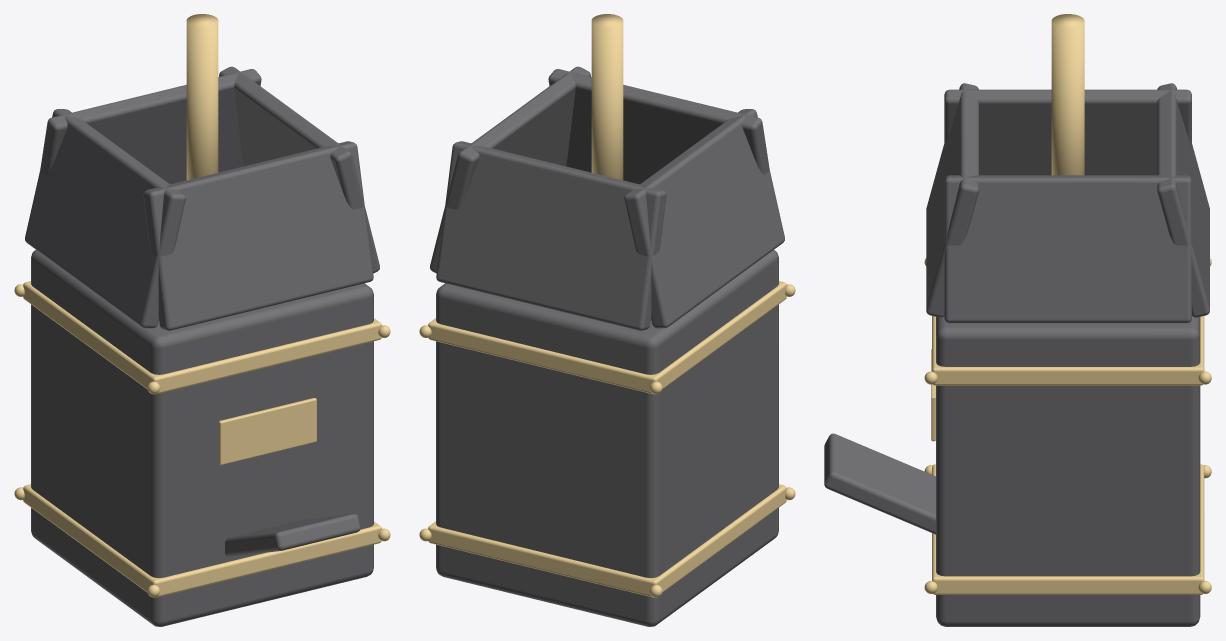
The model's file is rock_crusher.gltf.
The picture shows the model from 3 angles, left to right: view 1: azimuth 30°, elevation 25°; view 2: azimuth 150°, elevation 25°; view 3: azimuth 270°, elevation 25°; orthographic projection. The views are drawn at different scales.
Visible parts, largest first — view 1: Housing.001, HopperWall3, HopperWall1, HopperWall2, Band0.17, HopperWall0, Band0.03, Axle, Plate.001, Chute; view 2: Housing.001, HopperWall2, HopperWall1, HopperWall3, Band0.17, Band0.03, HopperWall0, Axle; view 3: Housing.001, HopperWall0, HopperWall1, HopperWall3, Chute, HopperWall2, Band0.03, Band0.17, Axle.
Part boxes in pixels (box(x1,y1,x2,y2)): Housing.001: box(31, 250, 373, 626); HopperWall3: box(143, 141, 373, 330); HopperWall1: box(25, 109, 185, 328); HopperWall2: box(40, 69, 261, 184); Band0.17: box(23, 281, 381, 394); HopperWall0: box(219, 66, 379, 273); Band0.03: box(23, 484, 381, 597); Axle: box(186, 14, 218, 180); Plate.001: box(218, 398, 316, 465); Chute: box(225, 513, 360, 556); Housing.001: box(436, 250, 778, 626); HopperWall2: box(436, 141, 666, 330); HopperWall1: box(624, 109, 784, 328); HopperWall3: box(548, 69, 769, 184); Band0.17: box(428, 281, 786, 394); Band0.03: box(428, 484, 786, 597); HopperWall0: box(430, 66, 590, 273); Axle: box(591, 14, 623, 180); Housing.001: box(936, 316, 1200, 626); HopperWall0: box(944, 175, 1191, 323); HopperWall1: box(944, 89, 1191, 175); HopperWall3: box(926, 83, 978, 317); Chute: box(824, 433, 935, 534); HopperWall2: box(1157, 83, 1209, 317); Band0.03: box(932, 464, 1204, 594); Band0.17: box(932, 316, 1204, 385); Axle: box(1051, 14, 1084, 175).
Size of the model in its own units: 0.174 by 0.37 by 0.2348.
